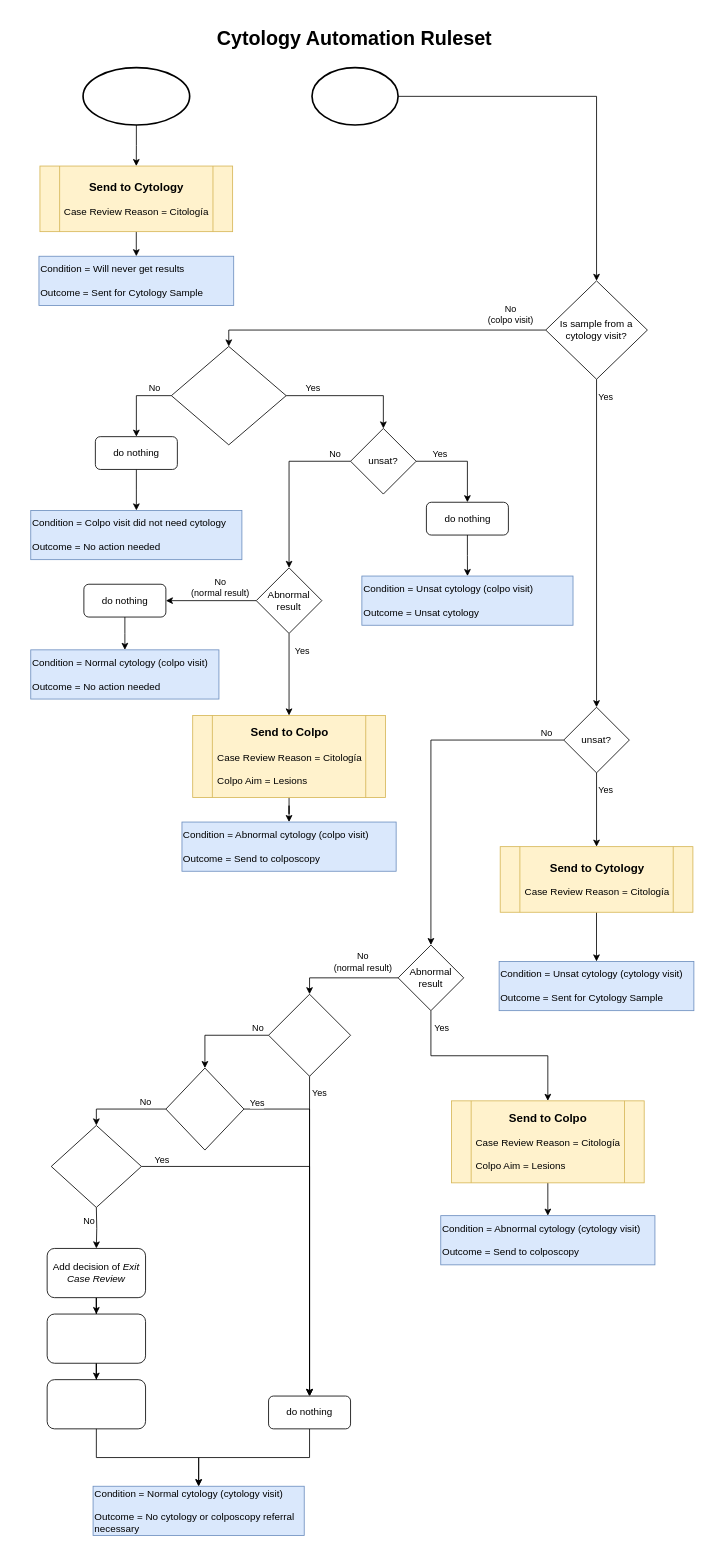
This 708x1550 diagram has some shape labels left out. Here are the shapes that lost their labels. From the top down, the centre of each, then its label:
At point 136,95: "Cytology sample is marked as Will never get results".
At point 355,95: "Cytology results imported".
At point 228,395: "Does CR decision for original colpo visit have the needs cytology flag?".
At point 309,1034: "Participant in colpo?".
At point 204,1108: "Case review awaiting decision?".
At point 95,1166: "Case review samples awaiting results?".
At point 96,1338: "Set case review status = Completed".
At point 96,1404: "Set case review end date = today".
